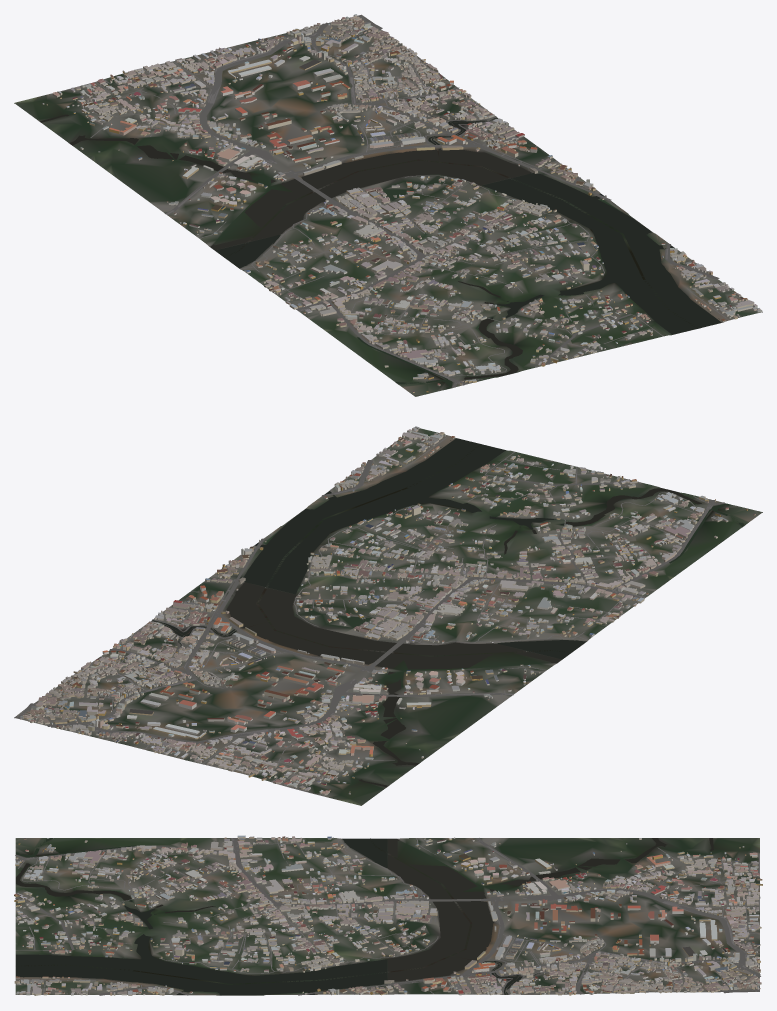
3 renders of one model, top to bottom at view 1: azimuth 30°, elevation 25°; view 2: azimuth 150°, elevation 25°; view 3: azimuth 270°, elevation 25°, orthographic. The views are drawn at different scales.
Parts seen in each view (by area): view 1: ground, buildings, water, roads; view 2: ground, buildings, water, roads; view 3: ground, buildings, water, roads.
Part boxes in pixels (x1,y1,x2,y2): ground: [14, 16, 762, 396]; buildings: [42, 14, 762, 392]; water: [40, 114, 721, 388]; roads: [50, 14, 752, 387]; ground: [14, 428, 762, 805]; buildings: [20, 426, 755, 795]; water: [152, 438, 744, 787]; roads: [14, 436, 724, 796]; ground: [15, 838, 759, 995]; buildings: [14, 835, 762, 995]; water: [15, 838, 713, 995]; roads: [15, 838, 760, 995].
Size of the model in its own units: 1417 by 44.74 by 2819.
